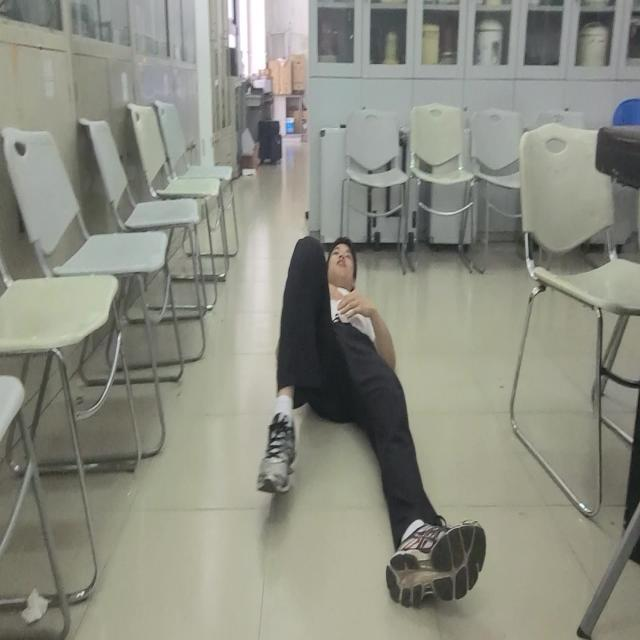fall: (264, 233, 488, 610)
